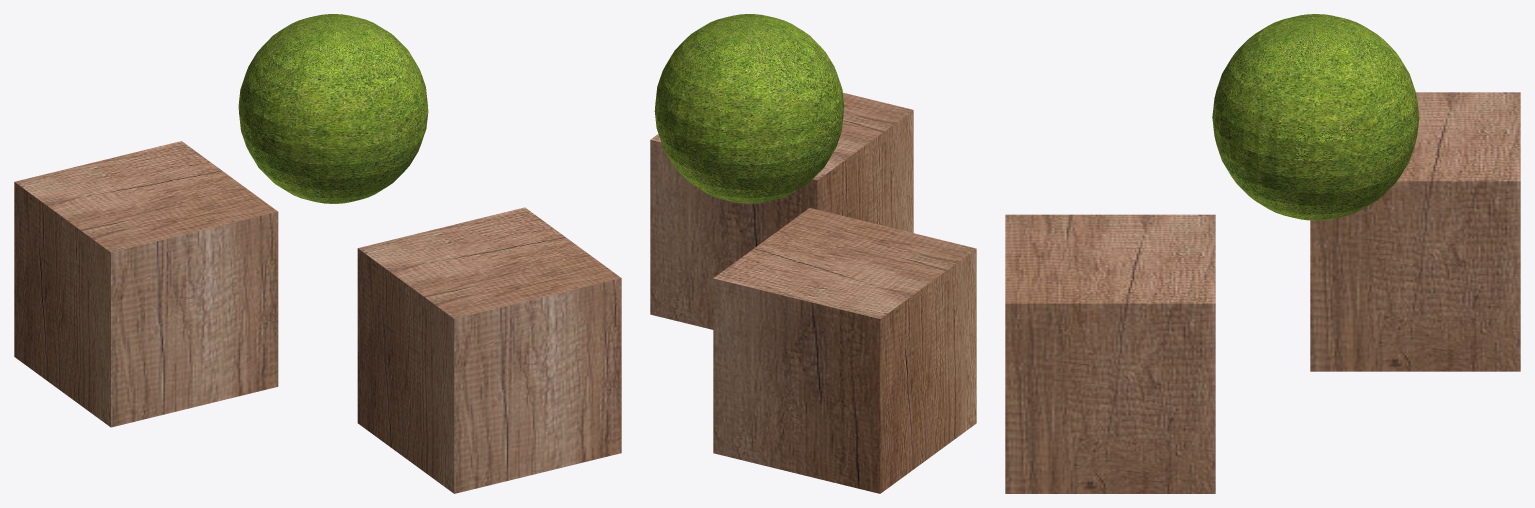
Rendered from multi_texture.gltf.
3 views of the same model, side by side, from view 1: azimuth 30°, elevation 25°; view 2: azimuth 150°, elevation 25°; view 3: azimuth 270°, elevation 25° (orthographic). The views are drawn at different scales.
Parts seen in each view (by area): view 1: Cube.002, Sphere; view 2: Cube.002, Sphere; view 3: Cube.002, Sphere.
Boxes of the visible parts, box(x1,y1,x2,y2) form: Cube.002: box(14, 141, 621, 493); Sphere: box(238, 14, 428, 203); Cube.002: box(650, 92, 976, 493); Sphere: box(654, 14, 844, 203); Cube.002: box(1005, 92, 1520, 493); Sphere: box(1212, 14, 1419, 220).
Size of the model in its own units: 4.5 by 4.19 by 4.98.
4 materials, 2 textured.
